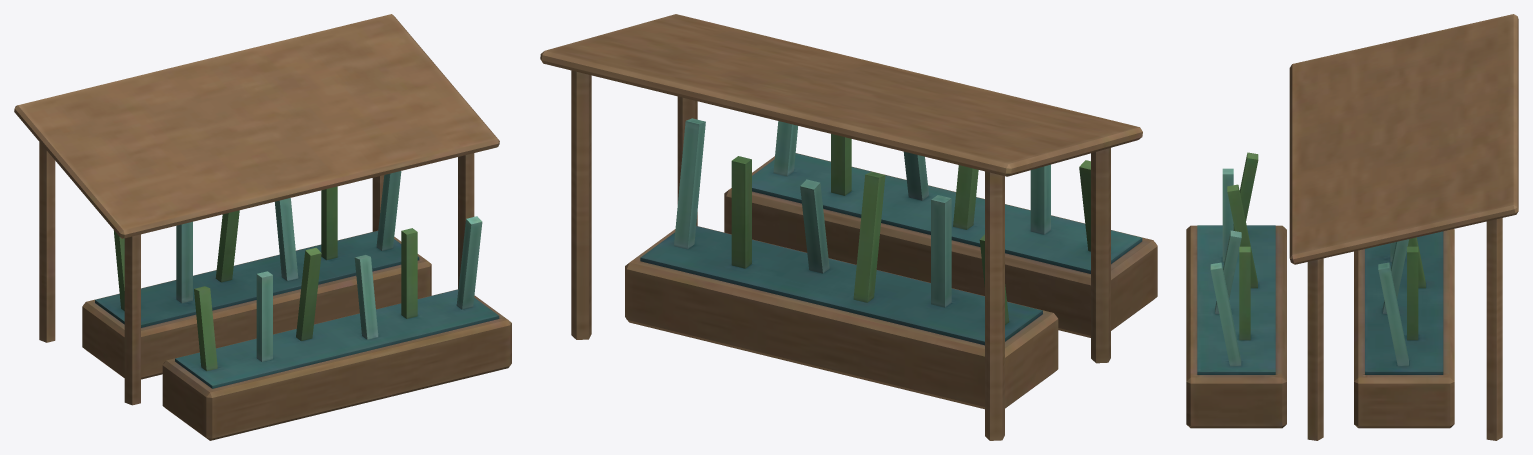
File: greenhouse-1-age10.glb
3 views of the same model, side by side, from view 1: azimuth 30°, elevation 25°; view 2: azimuth 150°, elevation 25°; view 3: azimuth 270°, elevation 25° (orthographic). The views are drawn at different scales.
Parts seen in each view (by area): view 1: greenhouse-1-age10; view 2: greenhouse-1-age10; view 3: greenhouse-1-age10.
Boxes of the visible parts, <box> form: greenhouse-1-age10: <box>14,14,511,440</box>; greenhouse-1-age10: <box>540,14,1157,440</box>; greenhouse-1-age10: <box>1186,14,1518,440</box>.
Size of the model in its own units: 0.82 by 0.4791 by 0.5947.
1 material, 1 textured.
